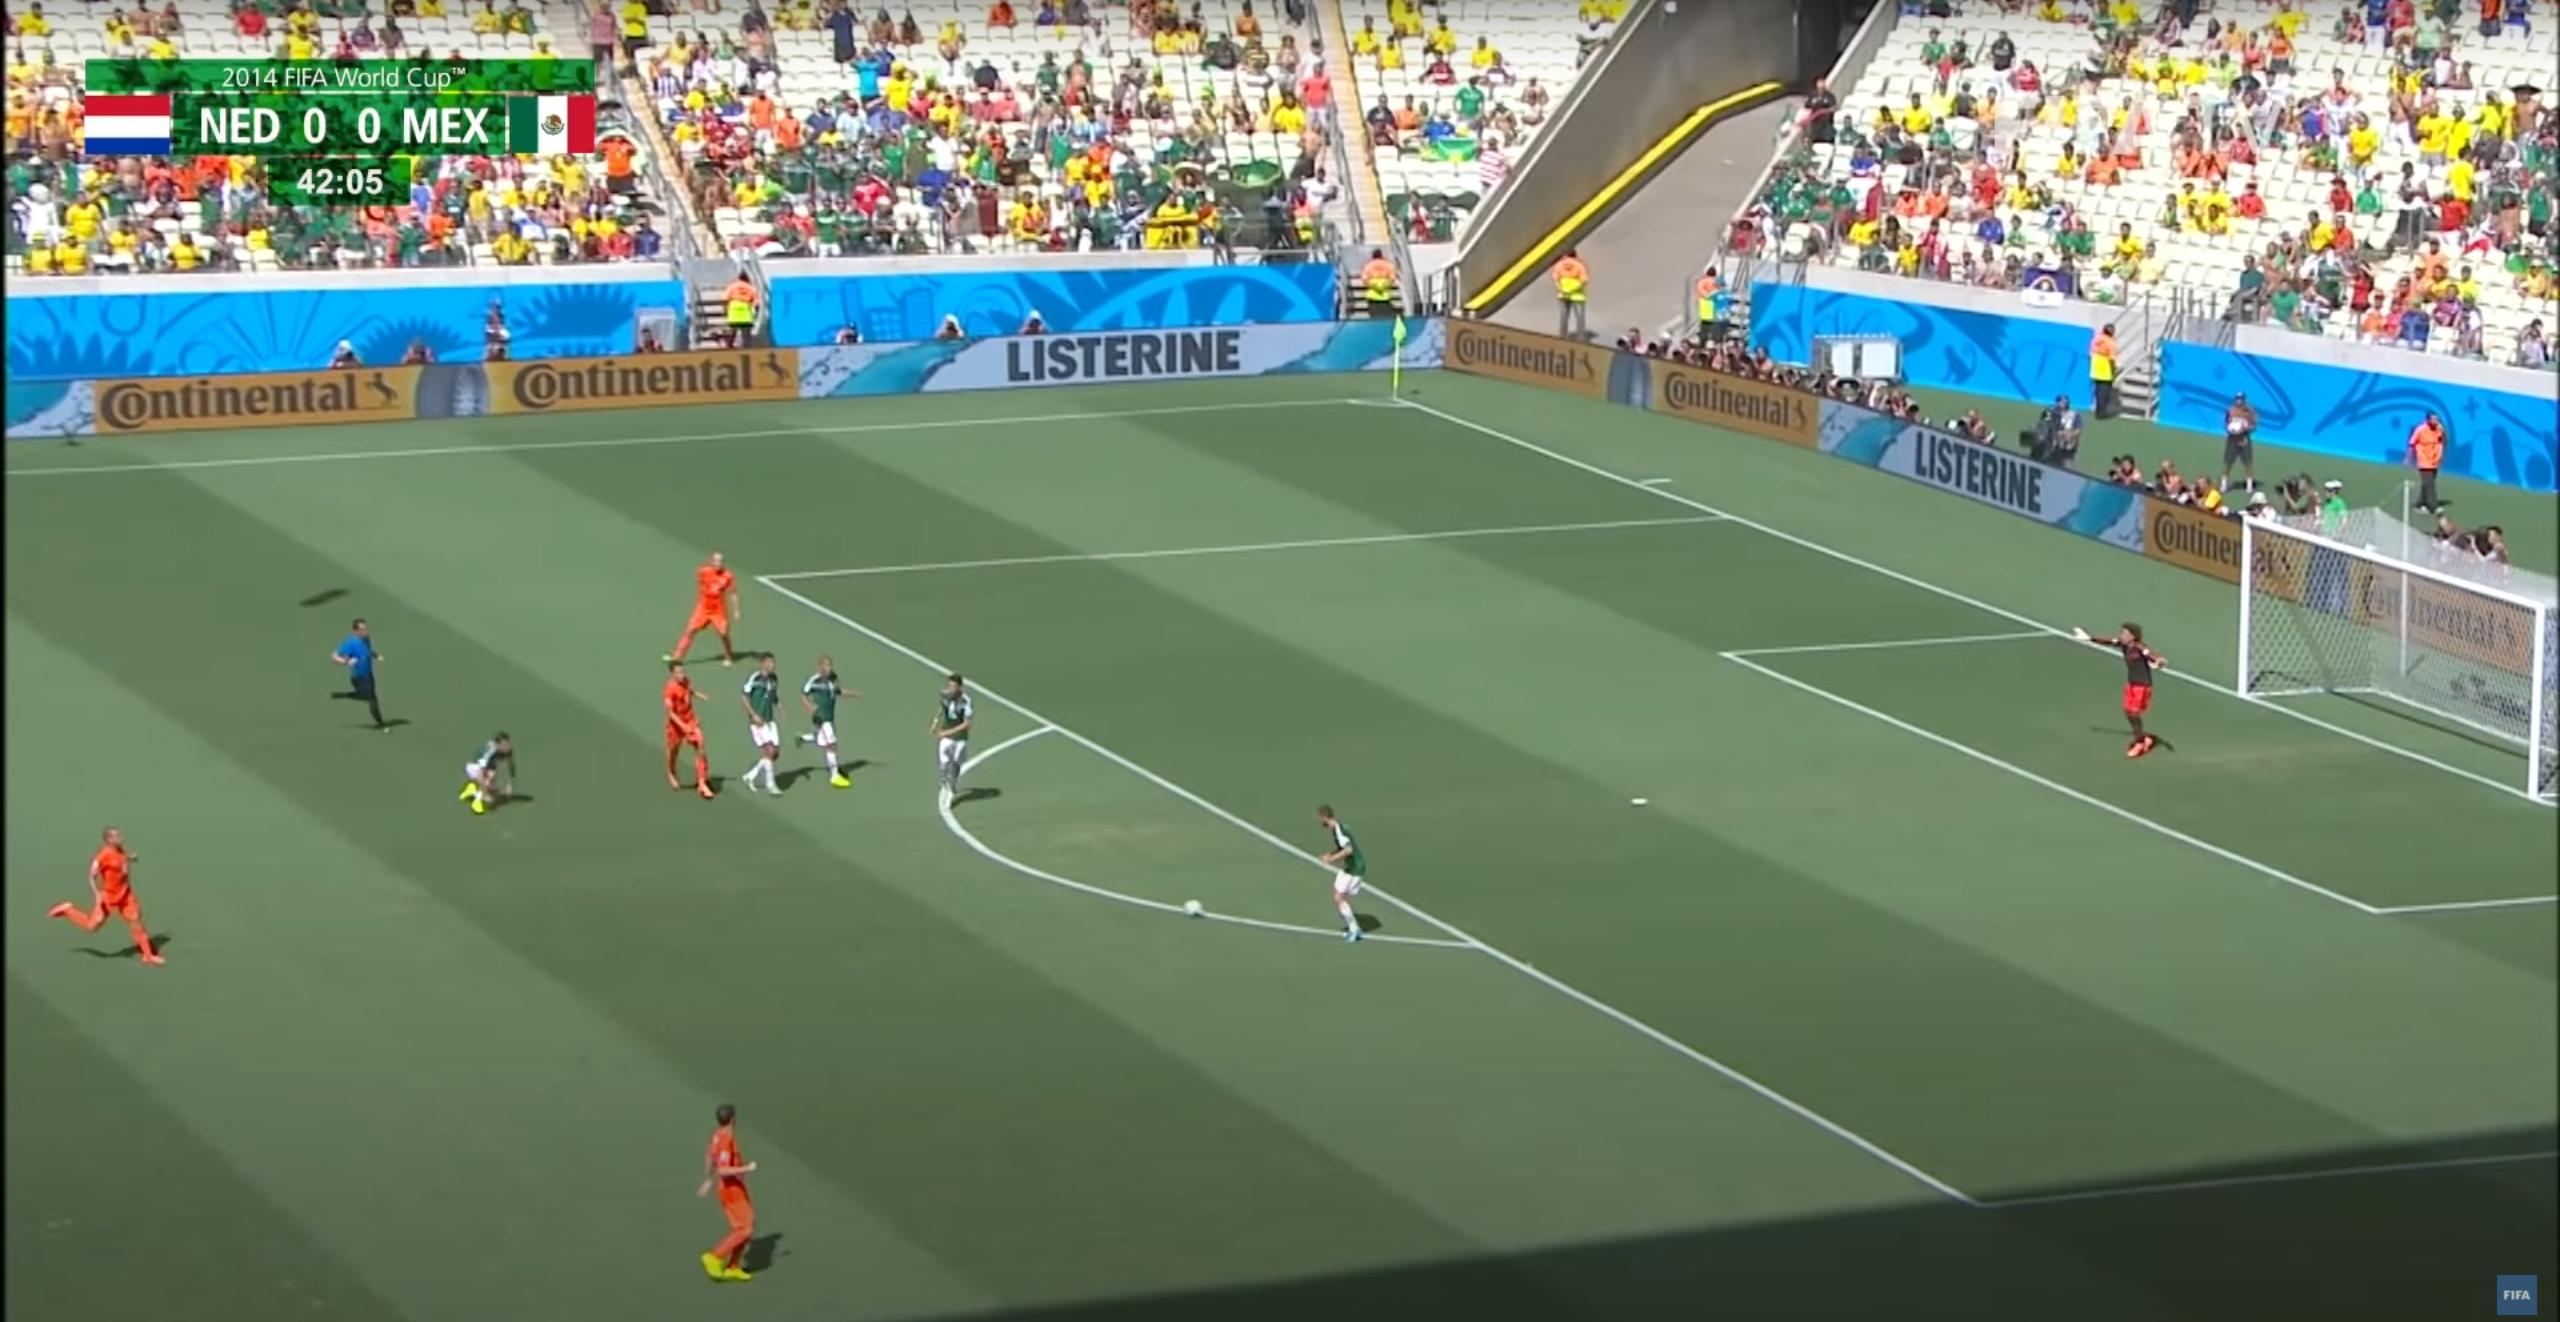Ball: (1183, 897, 1203, 917)
Goalie: (2075, 621, 2169, 760)
Referee: (325, 621, 388, 735)
Team A: (47, 830, 167, 966), (698, 1104, 760, 1283), (662, 550, 742, 664), (662, 659, 715, 799)
Team B: (795, 654, 863, 789), (1316, 804, 1367, 943), (740, 654, 787, 798), (929, 674, 974, 808), (460, 732, 521, 814)
